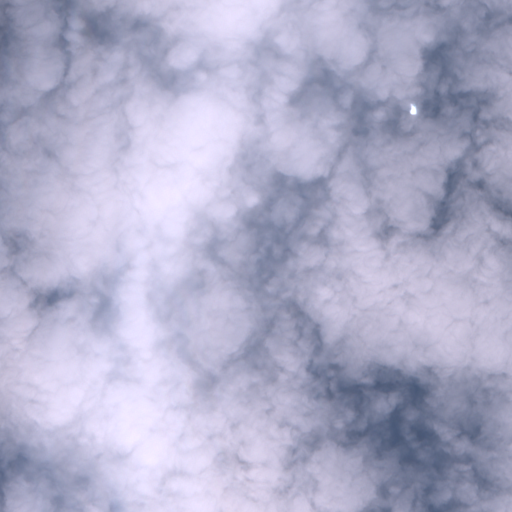Iceberg: (410, 104, 416, 114)
